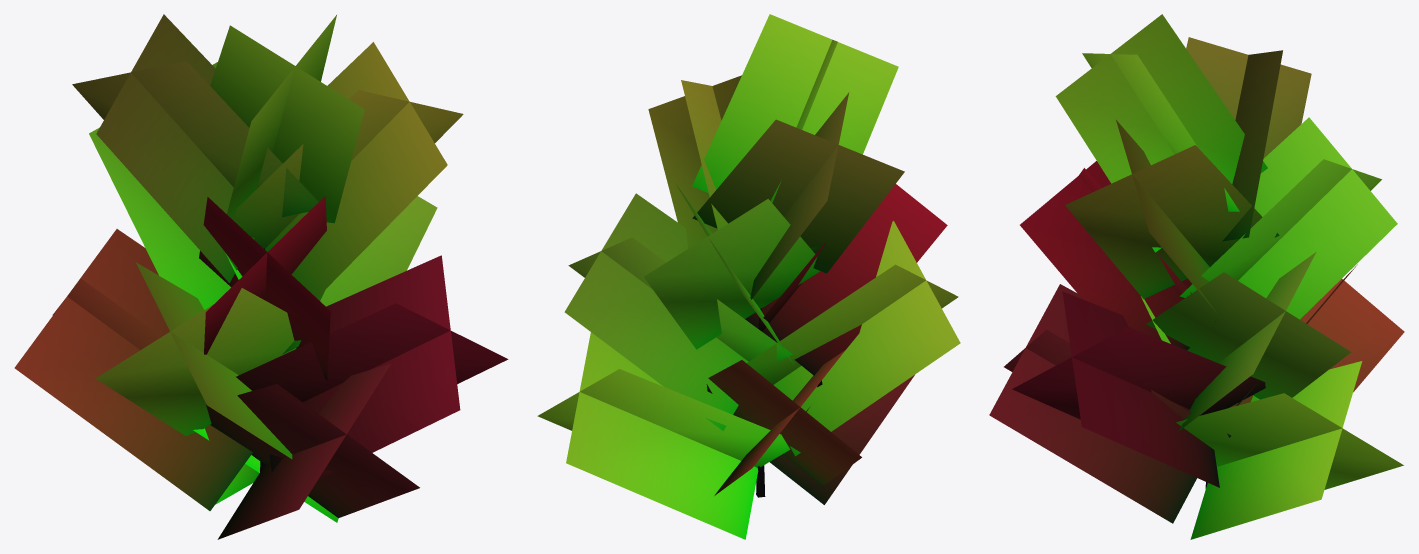
Rendered from SuperTree_13.fbx.
The picture shows the model from 3 angles, left to right: view 1: azimuth 30°, elevation 25°; view 2: azimuth 150°, elevation 25°; view 3: azimuth 270°, elevation 25°; orthographic projection. The views are drawn at different scales.
Parts seen in each view (by area): view 1: SuperTree_13; view 2: SuperTree_13; view 3: SuperTree_13.
Part boxes in pixels (x1=…): SuperTree_13: x1=14, y1=14, x2=508, y2=539; SuperTree_13: x1=537, y1=14, x2=960, y2=539; SuperTree_13: x1=989, y1=14, x2=1404, y2=539.
Bounding box in the file's own units: 475 × 615 × 490.
